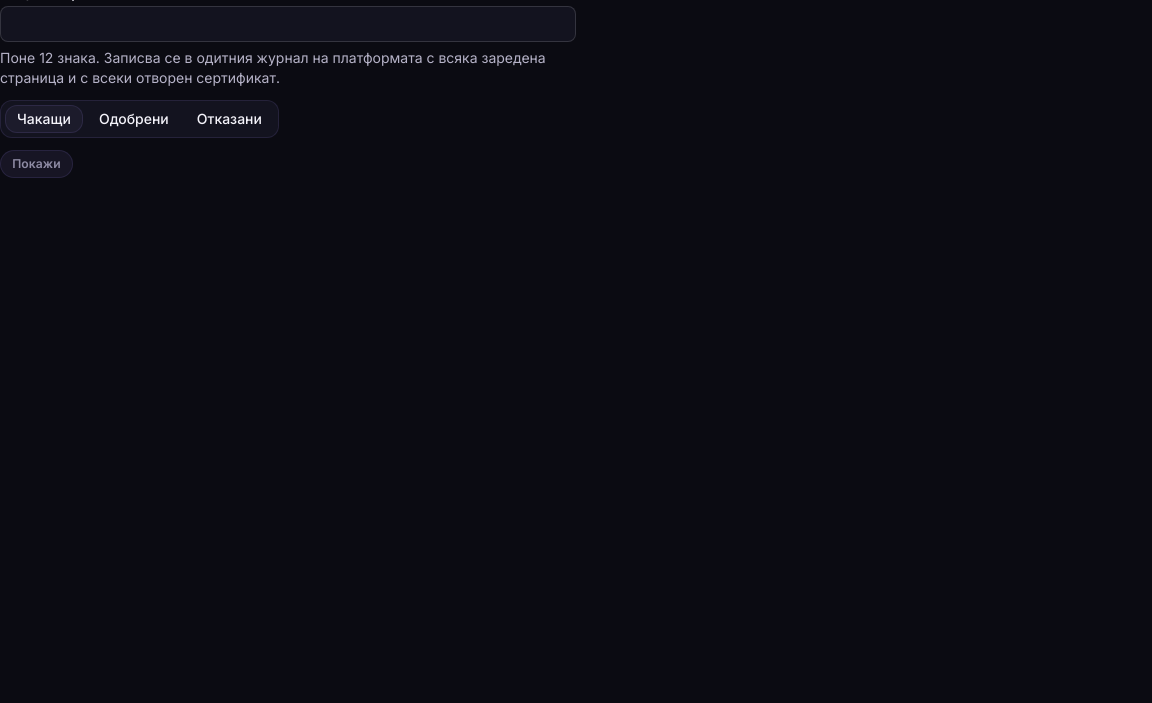
Test case: the certificate › a refusal is said on the card, and nothing is saved
Type "approving the pilot coaches, 14 October" into the field labelled "Защо отваряте списъка?" at (288, 24), box [0,6,576,42]
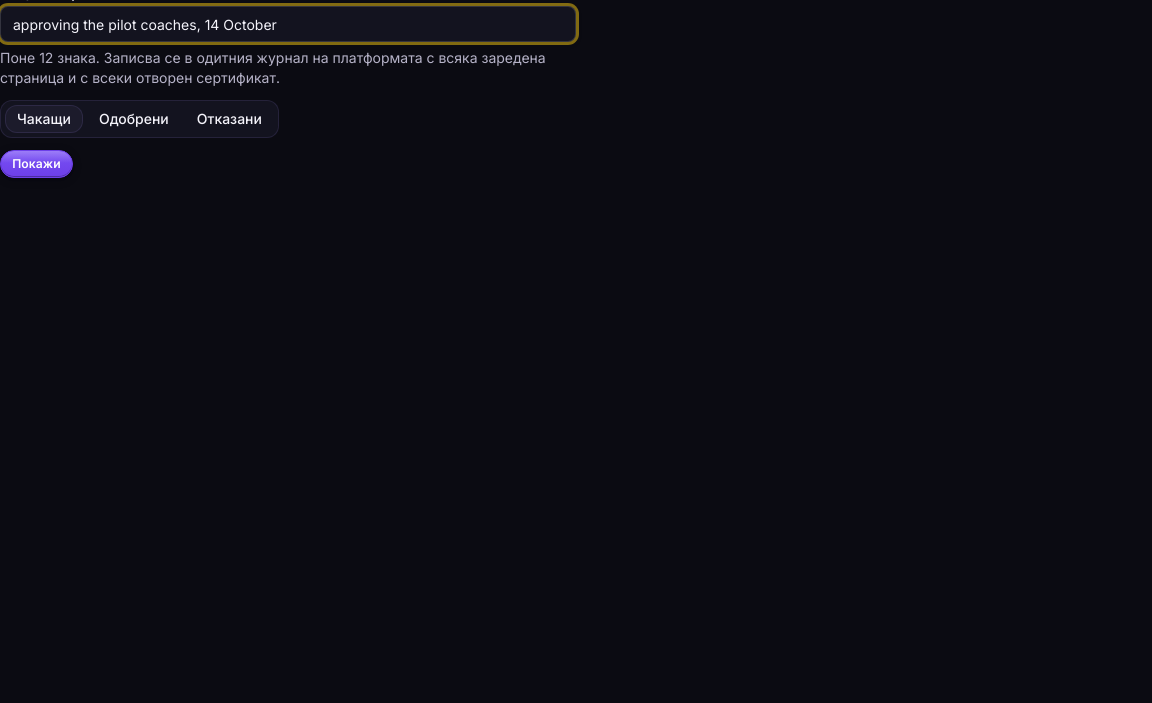
Click the button "Покажи" at (36, 164), box [0,150,73,178]
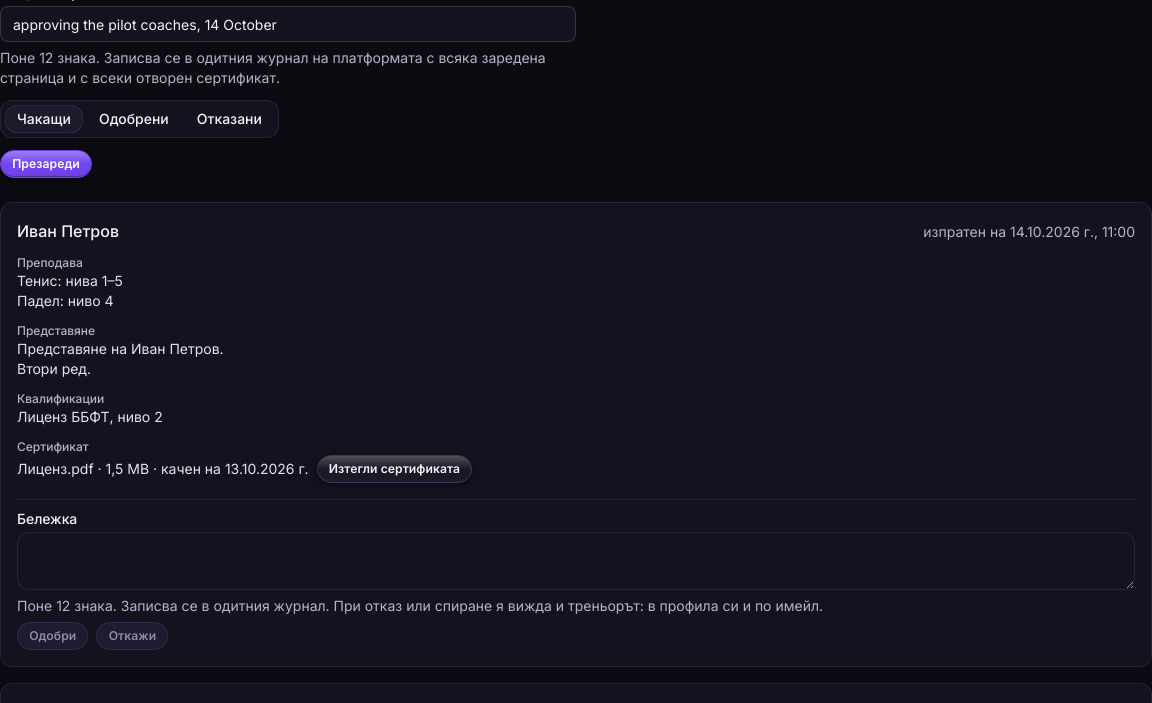
Check: the text "Иван Петров" is shown, box [17,219,119,243]
Click the button "Изтегли сертификата" at (394, 469), box [317,455,472,483]
(page scrolled)
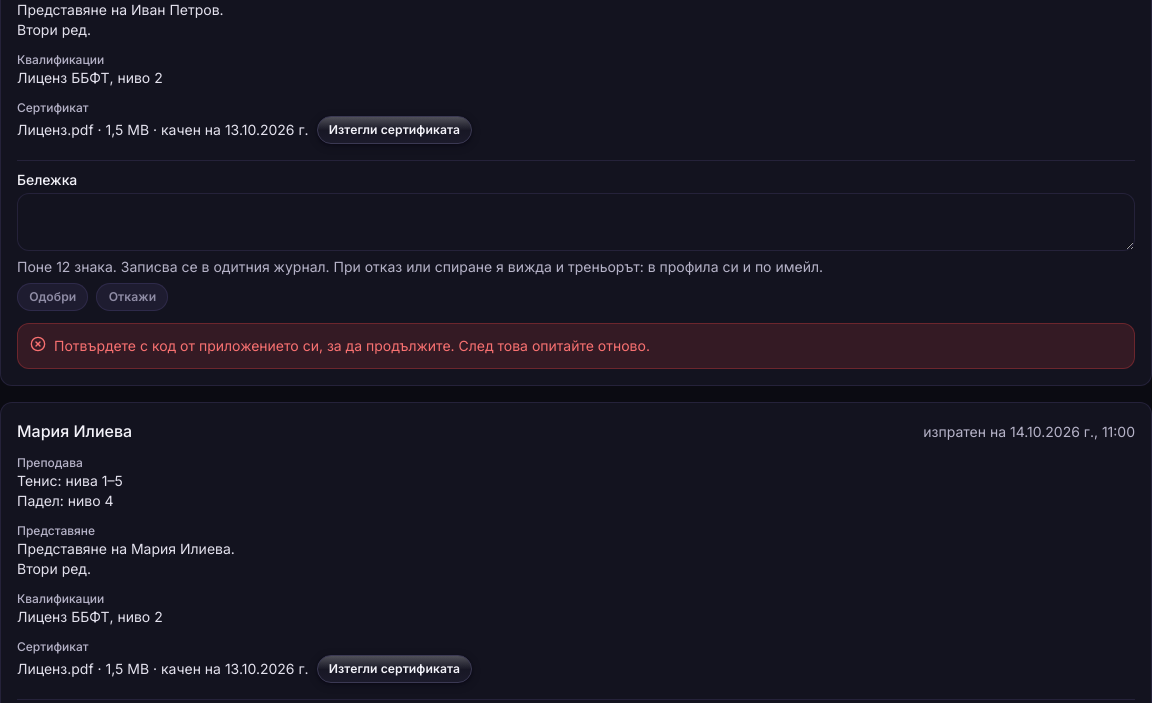
Check: the message shows "Потвърдете с код от приложението си, за да продължите. След това опитайте отново.", box [54,337,650,354]
